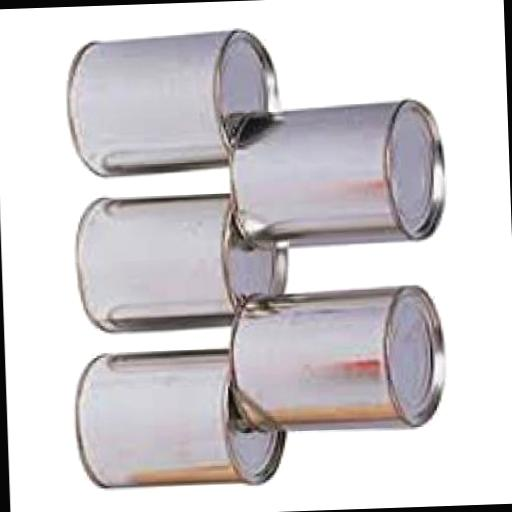metal: (230, 281, 449, 435), (228, 96, 449, 248), (66, 24, 282, 176), (73, 188, 288, 338), (74, 351, 289, 486)
